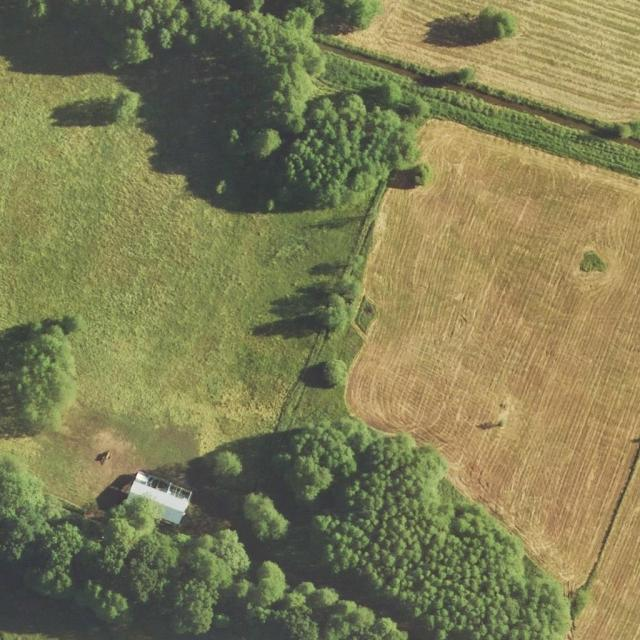building: (124, 469, 194, 527)
